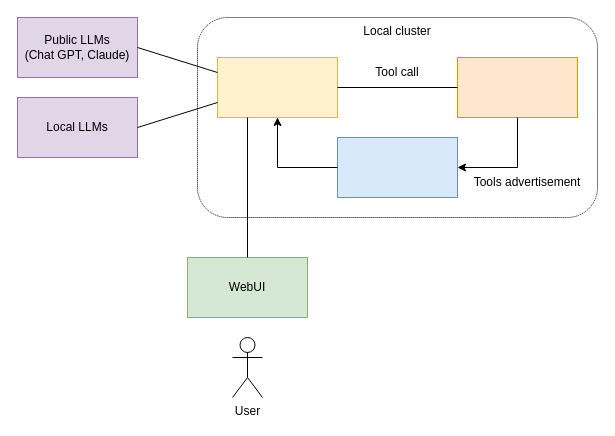
This 615x436 diagram has some shape labels left out. Here are the shapes that lost their labels. From the top down, the centre of each, then its label:
point 277,87: llm-microlink
point 517,87: Microsevices
point 397,167: Apache Zookeeper
